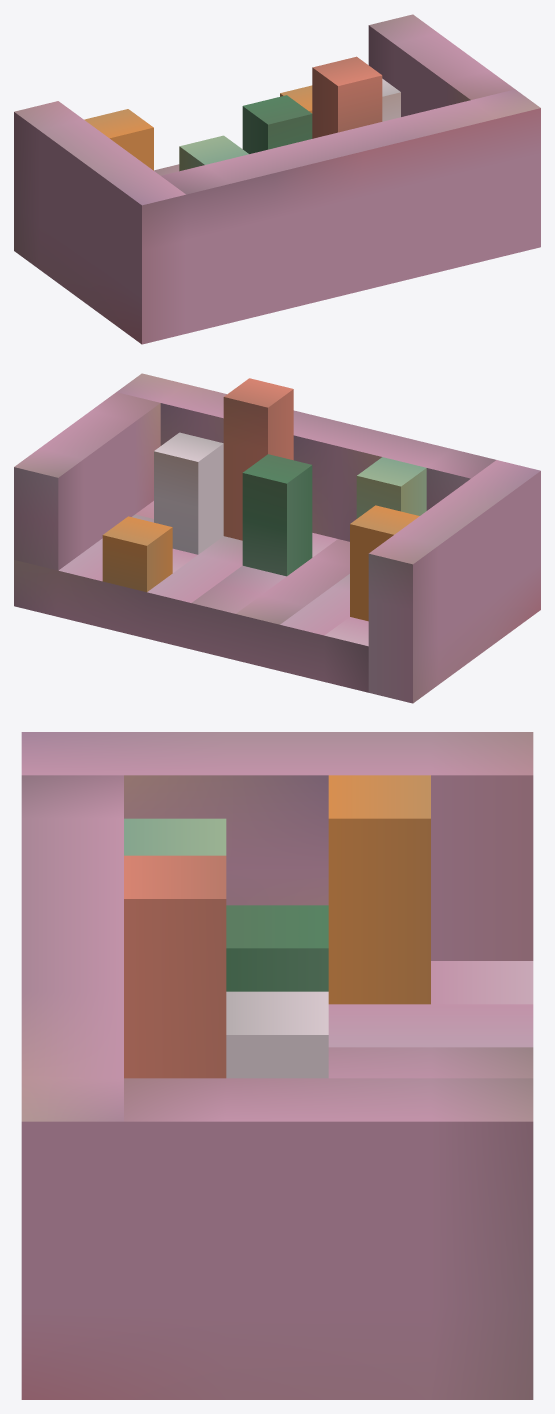
Rendered from ToyStackerPink_02.fbx.
3 renders of one model, top to bottom at view 1: azimuth 30°, elevation 25°; view 2: azimuth 150°, elevation 25°; view 3: azimuth 270°, elevation 25°, orthographic. The views are drawn at different scales.
Parts seen in each view (by area): view 1: ToyStackerPink_02; view 2: ToyStackerPink_02; view 3: ToyStackerPink_02.
Boxes of the visible parts, x1=… form: ToyStackerPink_02: x1=14, y1=14, x2=540, y2=344; ToyStackerPink_02: x1=14, y1=373, x2=540, y2=703; ToyStackerPink_02: x1=21, y1=732, x2=533, y2=1399.
Bounding box in the file's own units: 45 × 25 × 20.
Materials: 1 (1 with a texture image).
